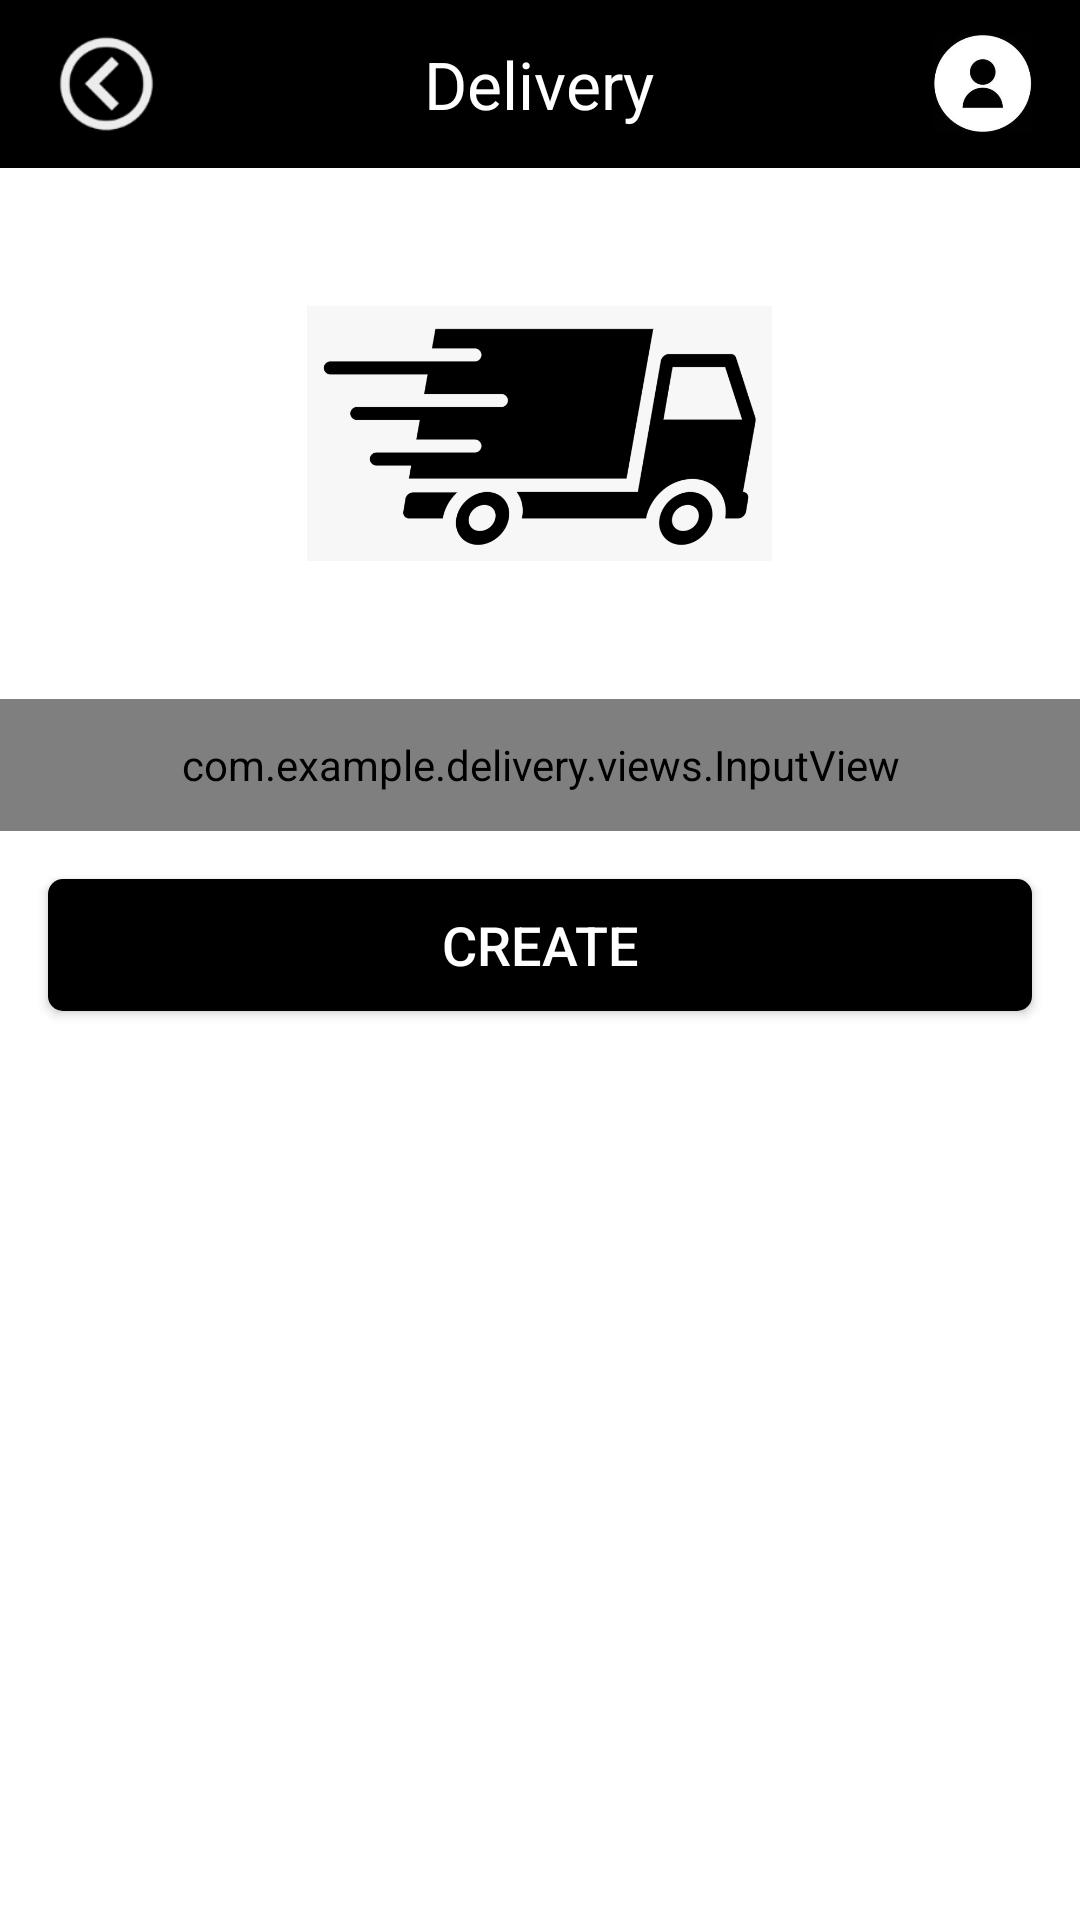

Named icons in this screenshot (1080 × 1920) and their bounding boxes, (x1, y1, x2, y2):
account: (934, 35, 1031, 132)
back: (60, 37, 153, 131)
